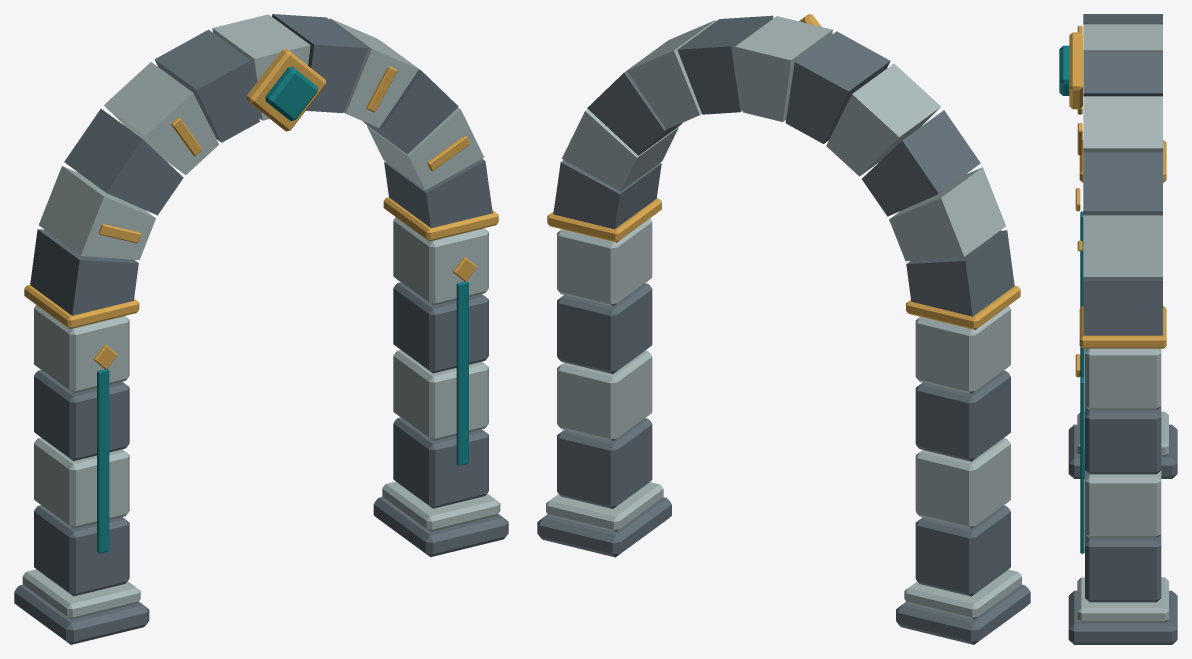
Rendered from 24_Portal_Arch.glb.
3 views of the same model, side by side, from view 1: azimuth 30°, elevation 25°; view 2: azimuth 150°, elevation 25°; view 3: azimuth 270°, elevation 25° (orthographic). The views are drawn at different scales.
Parts seen in each view (by area): view 1: 24_Portal_Arch__ArchTop, 24_Portal_Arch__LeftPillar, 24_Portal_Arch__RightPillar; view 2: 24_Portal_Arch__ArchTop, 24_Portal_Arch__LeftPillar, 24_Portal_Arch__RightPillar; view 3: 24_Portal_Arch__ArchTop, 24_Portal_Arch__RightPillar, 24_Portal_Arch__LeftPillar.
Boxes of the visible parts, x1,y1,x2,y2 form: 24_Portal_Arch__ArchTop: (30, 14, 492, 315); 24_Portal_Arch__LeftPillar: (14, 285, 149, 644); 24_Portal_Arch__RightPillar: (373, 197, 508, 557); 24_Portal_Arch__ArchTop: (553, 14, 1014, 316); 24_Portal_Arch__LeftPillar: (896, 286, 1030, 644); 24_Portal_Arch__RightPillar: (537, 198, 671, 557); 24_Portal_Arch__ArchTop: (1059, 14, 1162, 335); 24_Portal_Arch__RightPillar: (1068, 306, 1177, 644); 24_Portal_Arch__LeftPillar: (1068, 140, 1177, 478).
Bounding box in the file's own units: 5.96 × 6.96 × 1.45.
Materials: 1 (1 with a texture image).
